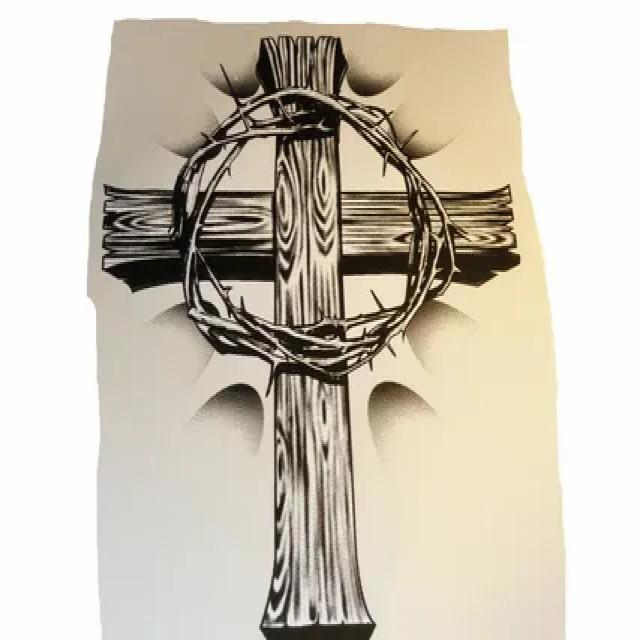crown: (165, 74, 451, 380)
